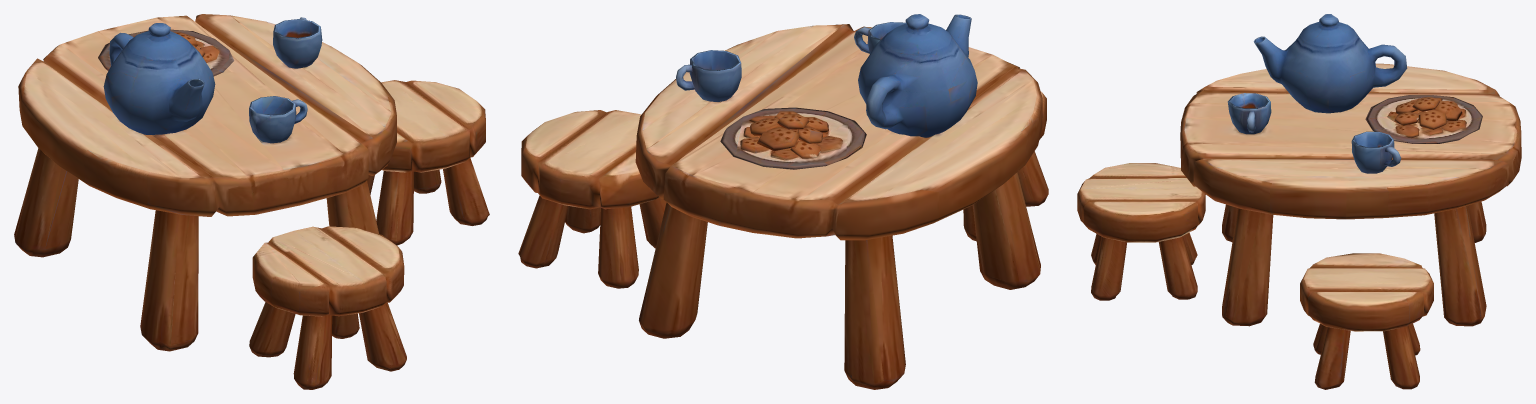
Rendered from cozy-table.glb.
3 renders of one model, left to right at view 1: azimuth 30°, elevation 25°; view 2: azimuth 150°, elevation 25°; view 3: azimuth 270°, elevation 25°, orthographic. The views are drawn at different scales.
Size of the model in its own units: 1.63 by 1 by 1.67.
1 material, 1 textured.
